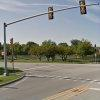traffic lights: (48, 8, 54, 21), (81, 2, 86, 16)
